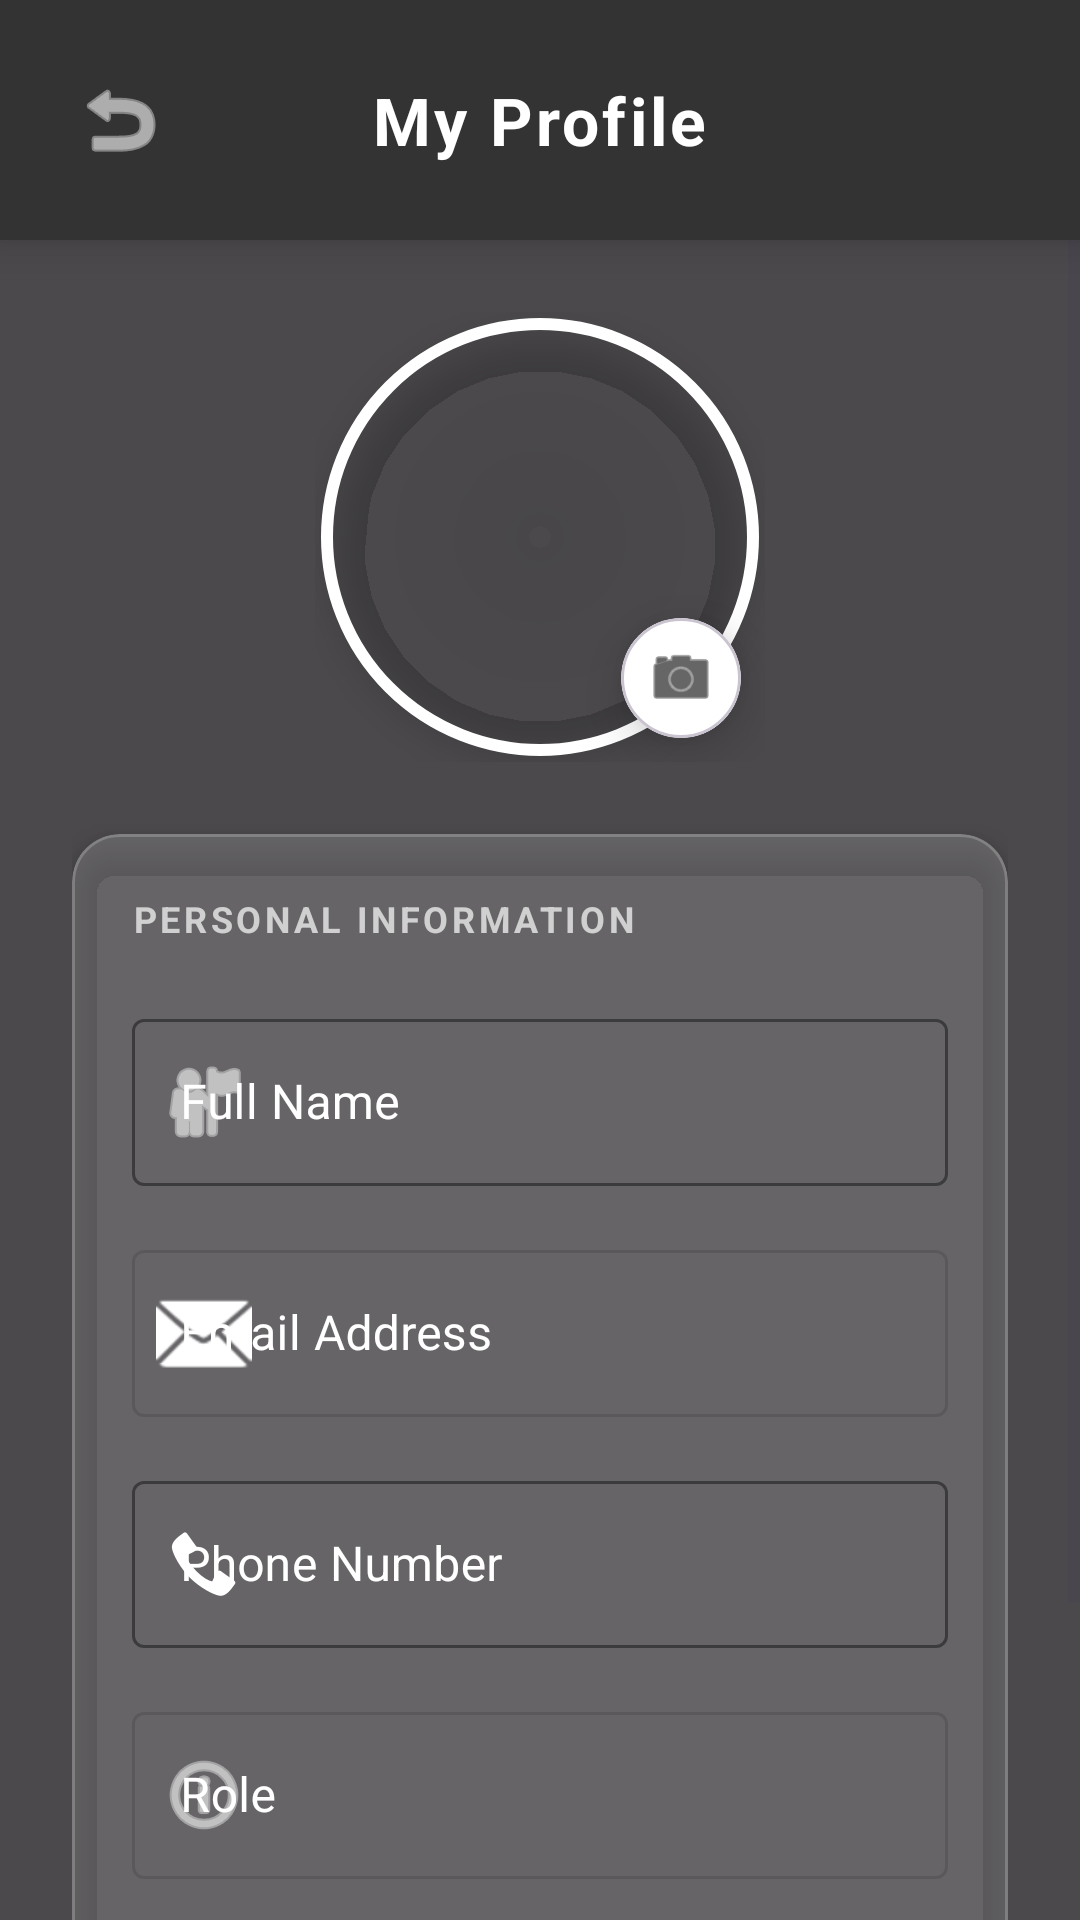

Screen size 1080 x 1920. Icon name, then its box in pixels as (left=x1, top=y1, right=x2, bottom=y2):
Back: (left=87, top=89, right=156, bottom=152)
camera: (left=621, top=618, right=741, bottom=738)
